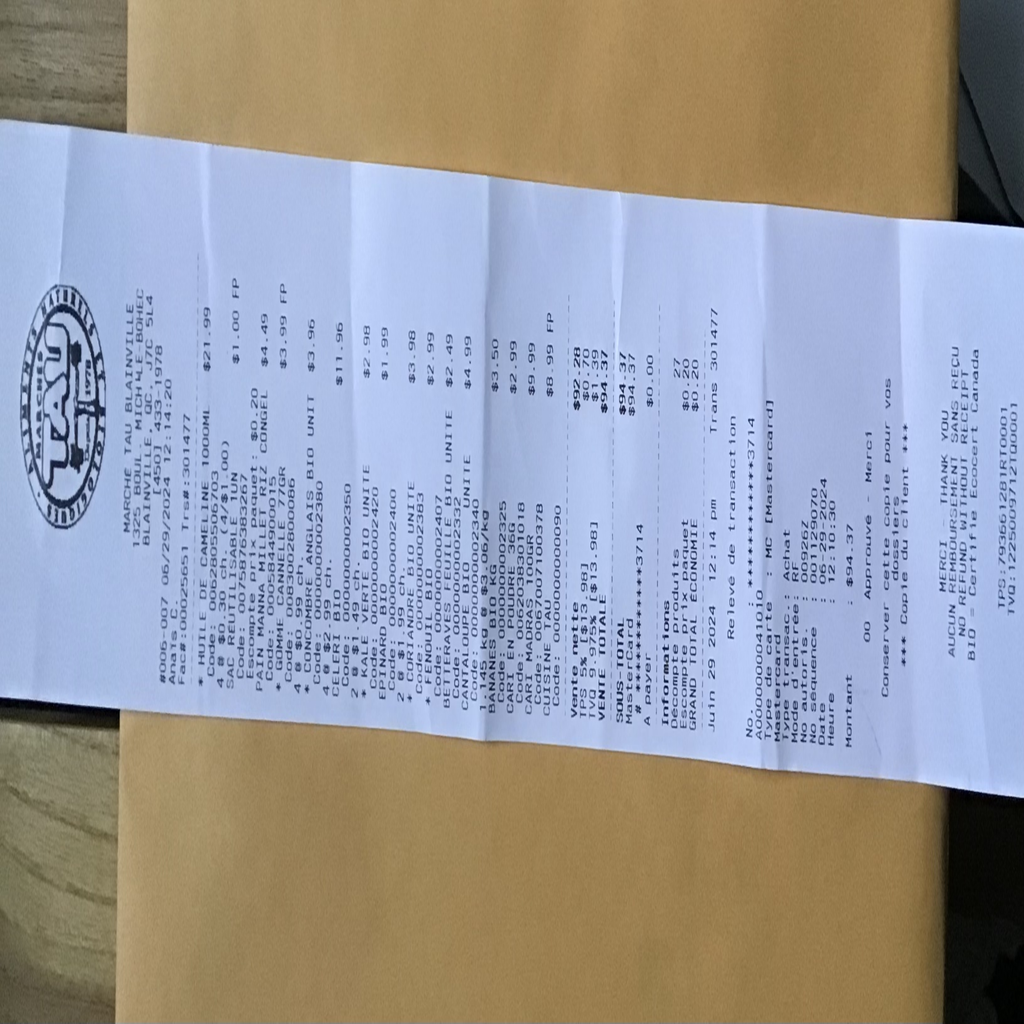recipt: (0, 122, 1022, 799)
